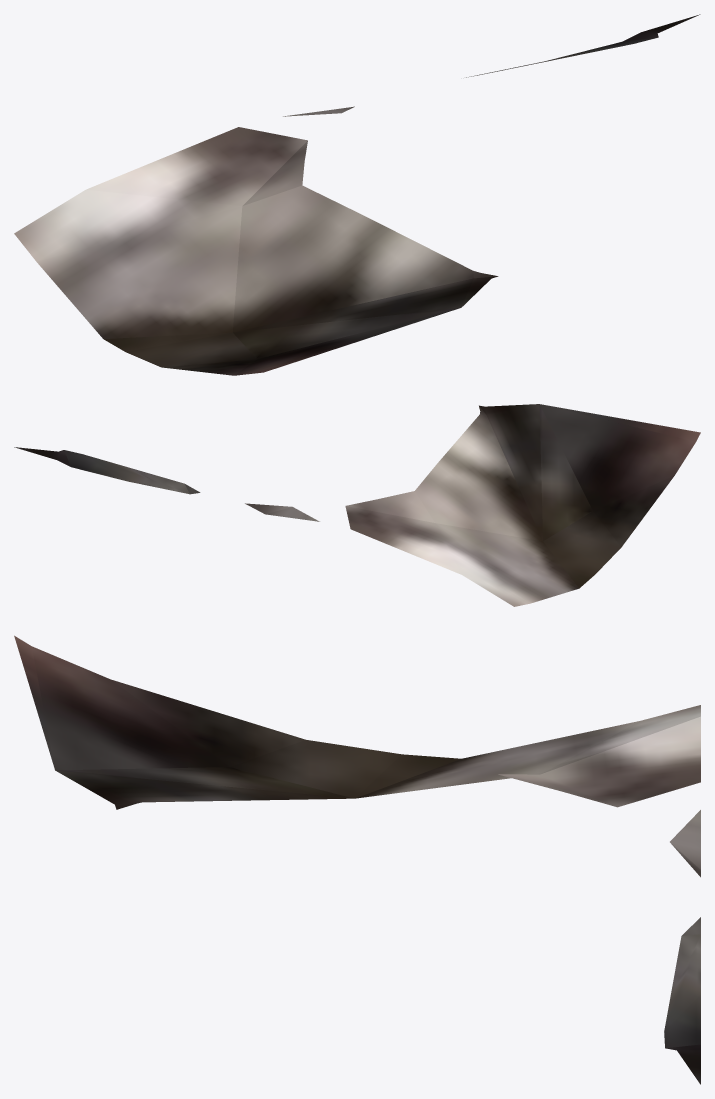
The picture shows the model from 3 angles, top to bottom: view 1: azimuth 30°, elevation 25°; view 2: azimuth 150°, elevation 25°; view 3: azimuth 270°, elevation 25°; orthographic projection. The views are drawn at different scales.
Size of the model in its own units: 0.2481 by 0.0318 by 0.1604.
Materials: 1 (1 with a texture image).
